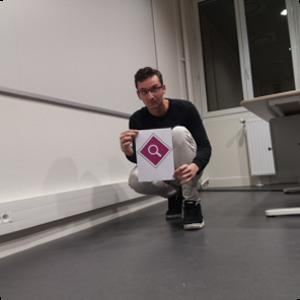search: (138, 134, 171, 166)
